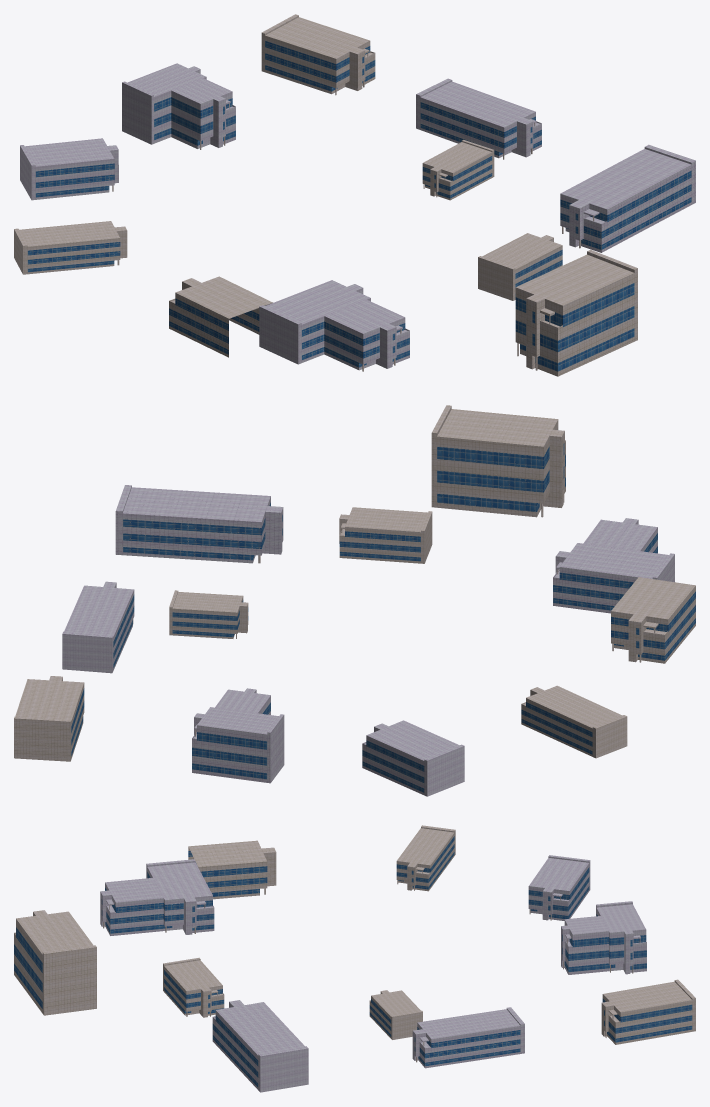
The model's file is China_track_building_city_03.dae.
3 renders of one model, top to bottom at view 1: azimuth 30°, elevation 25°; view 2: azimuth 150°, elevation 25°; view 3: azimuth 270°, elevation 25°, orthographic. The views are drawn at different scales.
Parts seen in each view (by area): view 1: building_city_03_03, building_city_03_02, building_city_03_04, building_city_03_08, building_city_03_07, building_city_03_09, building_city_03_05, building_city_03_06, building_city_03_011, building_city_03_010, building_city_03_01; view 2: building_city_03_03, building_city_03_04, building_city_03_02, building_city_03_08, building_city_03_011, building_city_03_05, building_city_03_07, building_city_03_09, building_city_03_06, building_city_03_010, building_city_03_01; view 3: building_city_03_03, building_city_03_02, building_city_03_04, building_city_03_08, building_city_03_09, building_city_03_07, building_city_03_011, building_city_03_05, building_city_03_06, building_city_03_010, building_city_03_01.
Part boxes in pixels (x1=…): building_city_03_03: x1=515, y1=249, x2=637, y2=376; building_city_03_02: x1=259, y1=280, x2=409, y2=371; building_city_03_04: x1=560, y1=144, x2=695, y2=252; building_city_03_08: x1=122, y1=63, x2=235, y2=149; building_city_03_07: x1=261, y1=14, x2=375, y2=95; building_city_03_09: x1=416, y1=78, x2=541, y2=159; building_city_03_05: x1=20, y1=138, x2=118, y2=200; building_city_03_06: x1=14, y1=221, x2=127, y2=274; building_city_03_011: x1=169, y1=276, x2=272, y2=357; building_city_03_010: x1=478, y1=233, x2=562, y2=300; building_city_03_01: x1=422, y1=140, x2=494, y2=200; building_city_03_03: x1=431, y1=405, x2=565, y2=517; building_city_03_04: x1=115, y1=485, x2=283, y2=563; building_city_03_02: x1=553, y1=518, x2=674, y2=613; building_city_03_08: x1=192, y1=688, x2=284, y2=783; building_city_03_011: x1=611, y1=577, x2=695, y2=663; building_city_03_05: x1=362, y1=720, x2=464, y2=796; building_city_03_07: x1=14, y1=676, x2=84, y2=761; building_city_03_09: x1=62, y1=581, x2=134, y2=673; building_city_03_06: x1=521, y1=685, x2=627, y2=758; building_city_03_010: x1=339, y1=507, x2=432, y2=563; building_city_03_01: x1=169, y1=590, x2=248, y2=638; building_city_03_03: x1=14, y1=910, x2=96, y2=1015; building_city_03_02: x1=100, y1=859, x2=214, y2=935; building_city_03_04: x1=212, y1=1000, x2=308, y2=1092; building_city_03_08: x1=561, y1=901, x2=646, y2=974; building_city_03_09: x1=412, y1=1007, x2=524, y2=1068; building_city_03_07: x1=601, y1=979, x2=695, y2=1044; building_city_03_011: x1=188, y1=840, x2=276, y2=899; building_city_03_05: x1=528, y1=855, x2=590, y2=920; building_city_03_06: x1=396, y1=825, x2=455, y2=891; building_city_03_010: x1=163, y1=957, x2=224, y2=1017; building_city_03_01: x1=369, y1=990, x2=422, y2=1039.
Bounding box in the file's own units: 47.32 × 56.28 × 5.62.
Materials: 3 (3 with a texture image).
